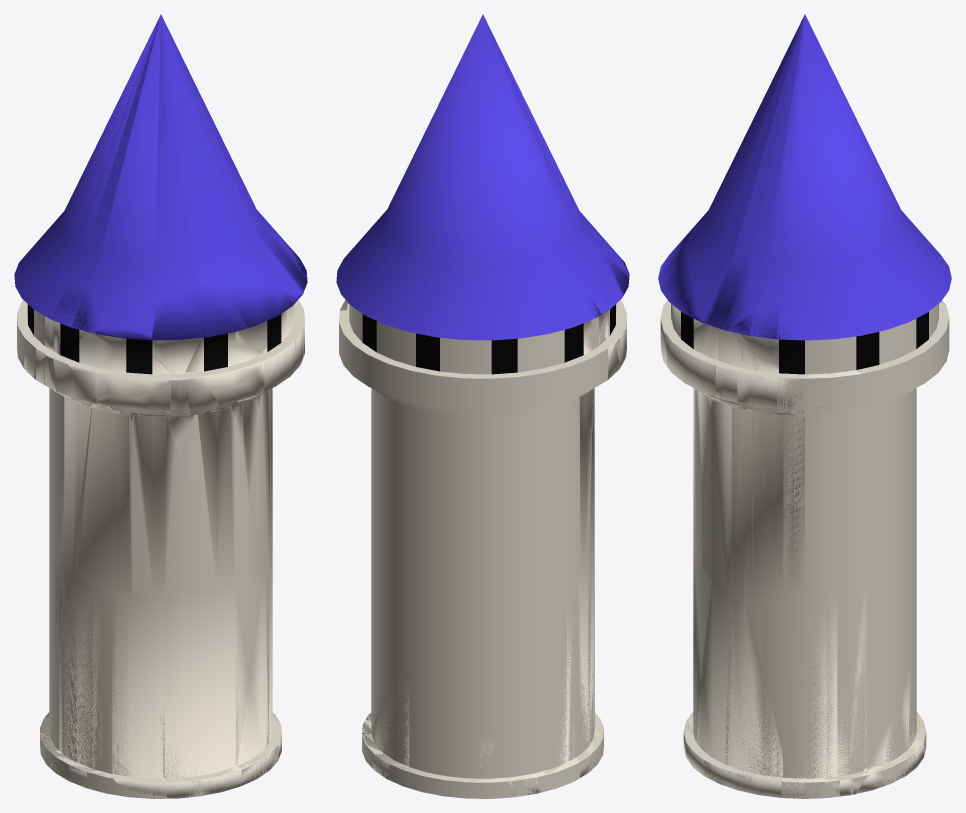
File: Chato.fbx
3 renders of one model, left to right at view 1: azimuth 30°, elevation 25°; view 2: azimuth 150°, elevation 25°; view 3: azimuth 270°, elevation 25°, orthographic.
Visible parts, largest first — view 1: Cylinder, Cylinder_cell.089, Cylinder_cell.098, Cylinder_cell.009, Cylinder_cell.069, Cylinder_cell.090, Cylinder_cell.096, Cylinder_cell.062, Cylinder_cell.036, Cylinder_cell.012, Cylinder_cell.053, Cylinder_cell.079 (+25 smaller); view 2: Cylinder, Cylinder_cell.036, Cylinder_cell.053, Cylinder_cell.060, Cylinder_cell.058, Cylinder_cell.041, Cylinder_cell.015, Cylinder_cell.069, Cylinder_cell.032, Cylinder_cell.088; view 3: Cylinder, Cylinder_cell.082, Cylinder_cell.025, Cylinder_cell.010, Cylinder_cell.012, Cylinder_cell.071, Cylinder_cell.022, Cylinder_cell.028, Cylinder_cell.046, Cylinder_cell.067, Cylinder_cell.096, Cylinder_cell.092 (+13 smaller).
Boxes of the visible parts, bbox=[...] form: Cylinder: bbox=[14, 14, 304, 798]; Cylinder_cell.089: bbox=[164, 576, 261, 798]; Cylinder_cell.098: bbox=[184, 405, 250, 592]; Cylinder_cell.009: bbox=[106, 591, 164, 790]; Cylinder_cell.069: bbox=[72, 399, 131, 592]; Cylinder_cell.090: bbox=[132, 413, 184, 595]; Cylinder_cell.096: bbox=[161, 16, 268, 284]; Cylinder_cell.062: bbox=[89, 16, 196, 300]; Cylinder_cell.036: bbox=[51, 565, 102, 778]; Cylinder_cell.012: bbox=[237, 566, 279, 786]; Cylinder_cell.053: bbox=[55, 18, 159, 284]; Cylinder_cell.079: bbox=[151, 280, 207, 380]; Cylinder: bbox=[336, 14, 626, 798]; Cylinder_cell.036: bbox=[572, 554, 603, 769]; Cylinder_cell.053: bbox=[484, 17, 600, 274]; Cylinder_cell.060: bbox=[362, 672, 409, 779]; Cylinder_cell.058: bbox=[584, 343, 620, 563]; Cylinder_cell.041: bbox=[542, 576, 580, 774]; Cylinder_cell.015: bbox=[579, 351, 613, 567]; Cylinder_cell.069: bbox=[585, 388, 594, 562]; Cylinder_cell.032: bbox=[601, 251, 628, 342]; Cylinder_cell.088: bbox=[403, 726, 515, 794]; Cylinder: bbox=[660, 14, 951, 798]; Cylinder_cell.082: bbox=[744, 592, 839, 795]; Cylinder_cell.025: bbox=[702, 17, 804, 330]; Cylinder_cell.010: bbox=[728, 594, 782, 797]; Cylinder_cell.012: bbox=[686, 582, 734, 786]; Cylinder_cell.071: bbox=[702, 393, 731, 592]; Cylinder_cell.022: bbox=[731, 406, 752, 596]; Cylinder_cell.028: bbox=[693, 17, 803, 320]; Cylinder_cell.046: bbox=[771, 412, 793, 596]; Cylinder_cell.067: bbox=[752, 412, 772, 596]; Cylinder_cell.096: bbox=[687, 16, 803, 279]; Cylinder_cell.092: bbox=[837, 584, 889, 796].
Size of the model in its own units: 402 by 1108 by 402.
